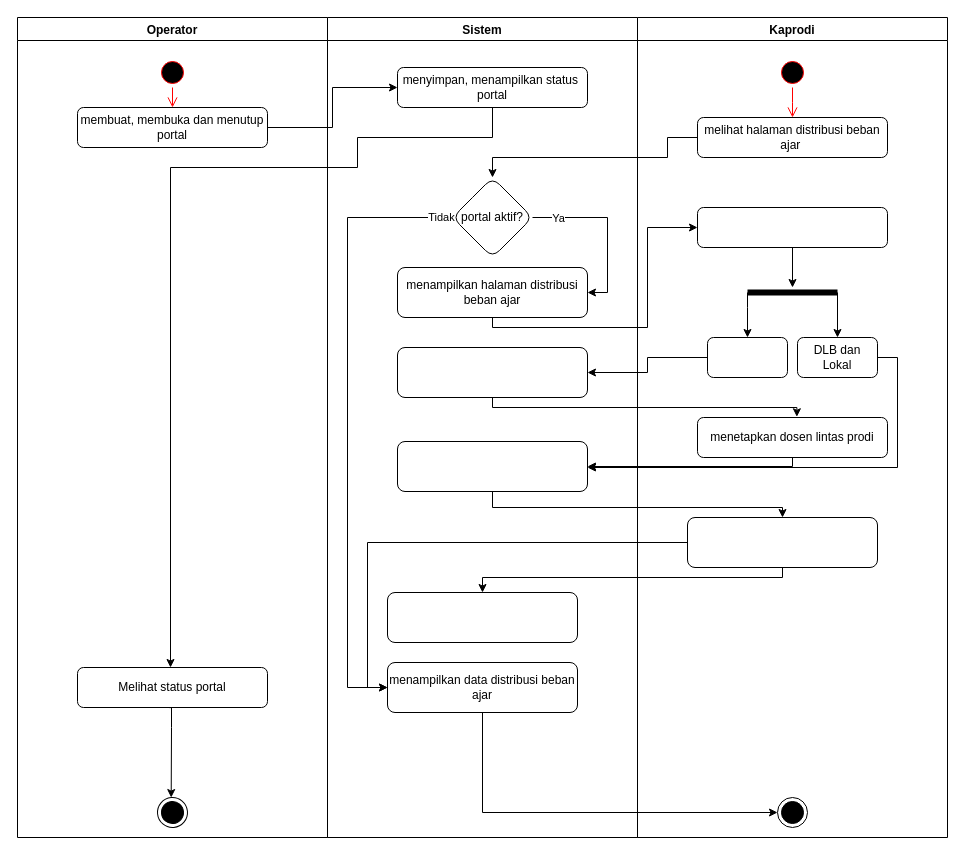
This 965x855 diagram has some shape labels left out. Each missing label, with the centre of its shape:
Lintas Prodi: point (747, 357)
melakukan submit data distribusi beban ajar: point (782, 542)
memproses permintaan lintas prodi: point (492, 372)
menetapkan dosen pengampu mata kuliah pada rombongan belajar: point (792, 227)
mengirim data distribusi ke Ka. Baak: point (482, 617)
menyimpan data dosen pengampu mata kuliah pada rombongan belajar: point (492, 466)
